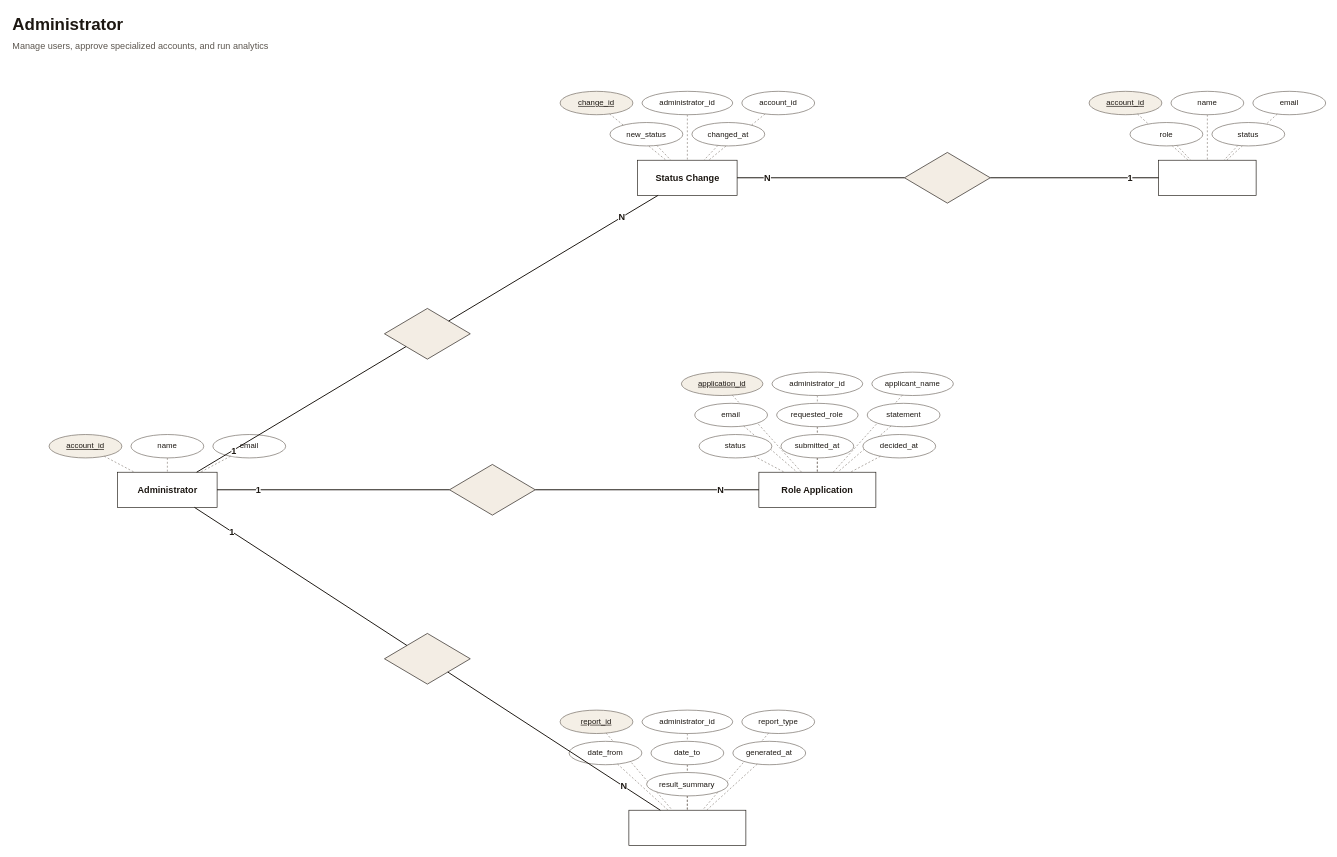
Some shapes in this 1337 by 857 pixel diagram are drawn without their labels. Each missing label, with the box of its shape:
Account: (1158, 160, 1256, 195)
Analytics Report: (628, 810, 746, 845)
applies to: (904, 152, 990, 203)
decides: (449, 464, 535, 515)
generates: (384, 633, 470, 684)
records: (384, 308, 470, 359)
